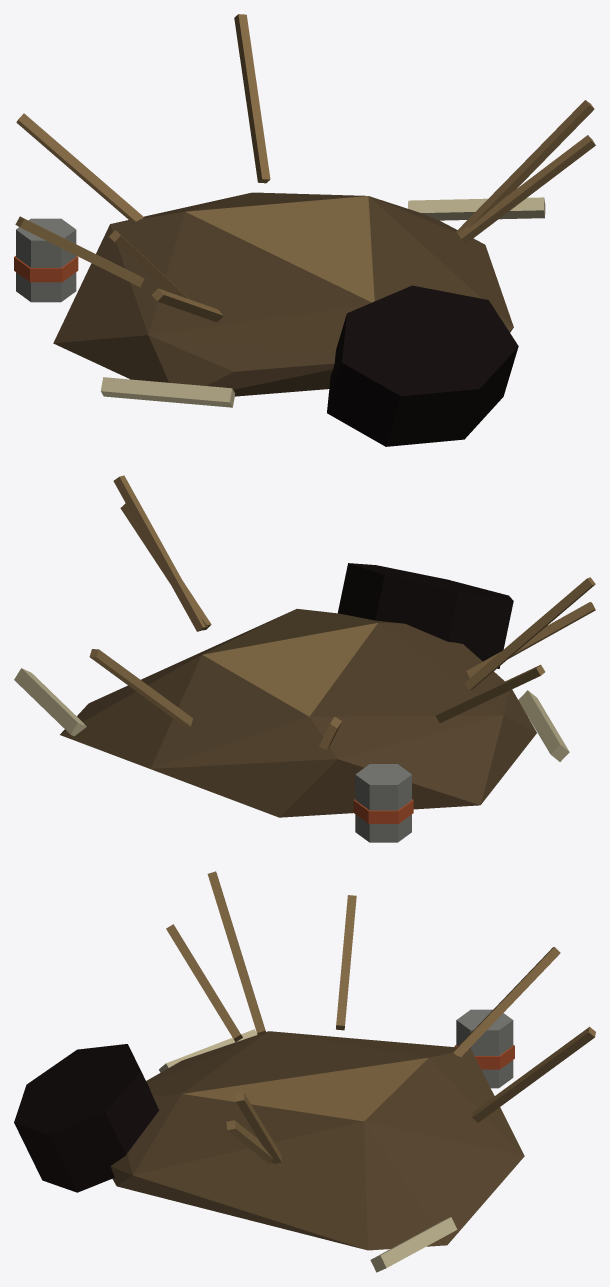
The model's file is mod_rat_nest.glb.
3 renders of one model, top to bottom at view 1: azimuth 30°, elevation 25°; view 2: azimuth 150°, elevation 25°; view 3: azimuth 270°, elevation 25°, orthographic. The views are drawn at different scales.
Visible parts, largest first — view 1: mod_rat_nest; view 2: mod_rat_nest; view 3: mod_rat_nest.
Boxes of the visible parts, left/top/right/bottom form: mod_rat_nest: left=14, top=14, right=595, bottom=446; mod_rat_nest: left=14, top=475, right=595, bottom=842; mod_rat_nest: left=14, top=871, right=595, bottom=1272.
Size of the model in its own units: 1.67 by 0.6002 by 1.64.
